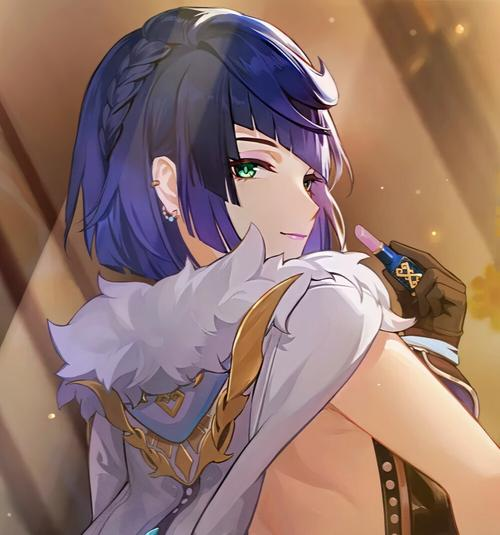夜兰: (61, 7, 500, 535)
